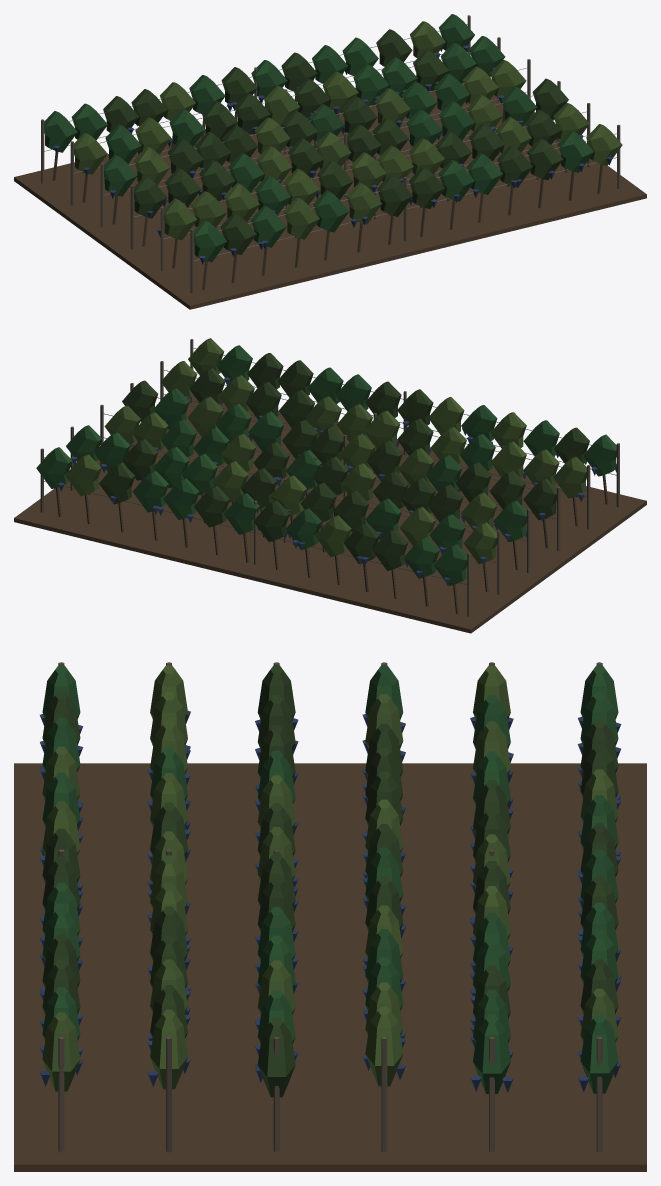
The model's file is walk_prop_vines.glb.
3 views of the same model, one above another, from view 1: azimuth 30°, elevation 25°; view 2: azimuth 150°, elevation 25°; view 3: azimuth 270°, elevation 25° (orthographic). The views are drawn at different scales.
Parts seen in each view (by area): view 1: walk_prop_vines; view 2: walk_prop_vines; view 3: walk_prop_vines.
Boxes of the visible parts, x1,y1,x2,y2 form: walk_prop_vines: (14, 14, 646, 309); walk_prop_vines: (14, 338, 646, 633); walk_prop_vines: (14, 662, 646, 1171).
Size of the model in its own units: 12 by 1.83 by 8.
Materials: 2 (2 with a texture image).
